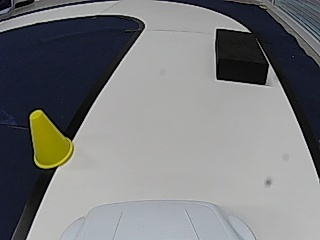block: (216, 27, 270, 84)
cone: (30, 110, 74, 168)
